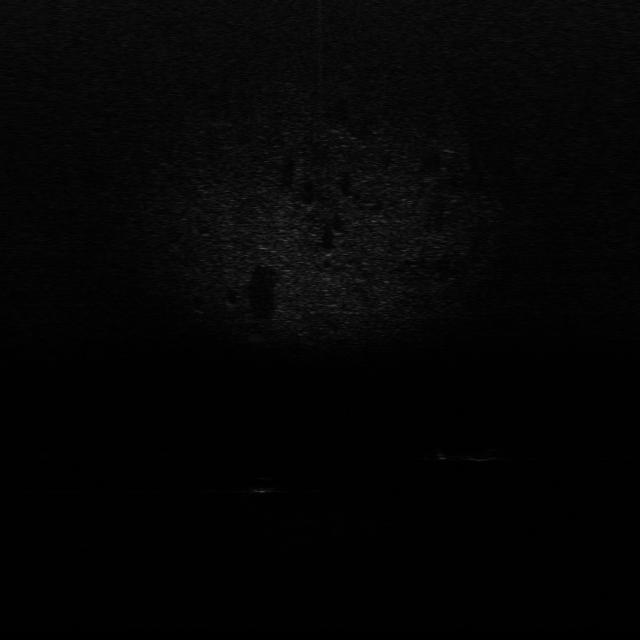ball: (242, 474, 280, 497)
human body: (420, 442, 514, 465)
